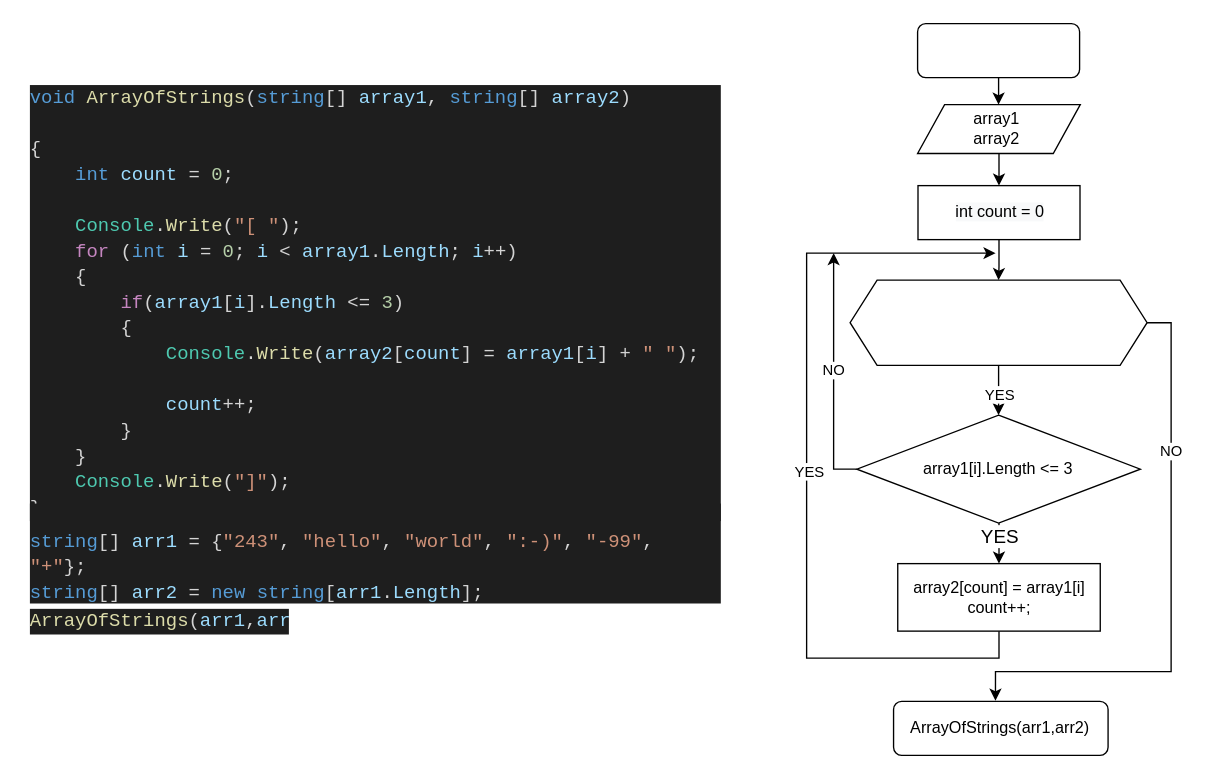
Image size: 1206x779. Some labels were removed from this diagram. The shapes that lost their labels are listed below. From the top down, each one's centre as x and y in pixels, then its label:
(x=998, y=50): ArrayOfStrings
(x=998, y=322): for (int i = 0; i < array1.Length; i++)
